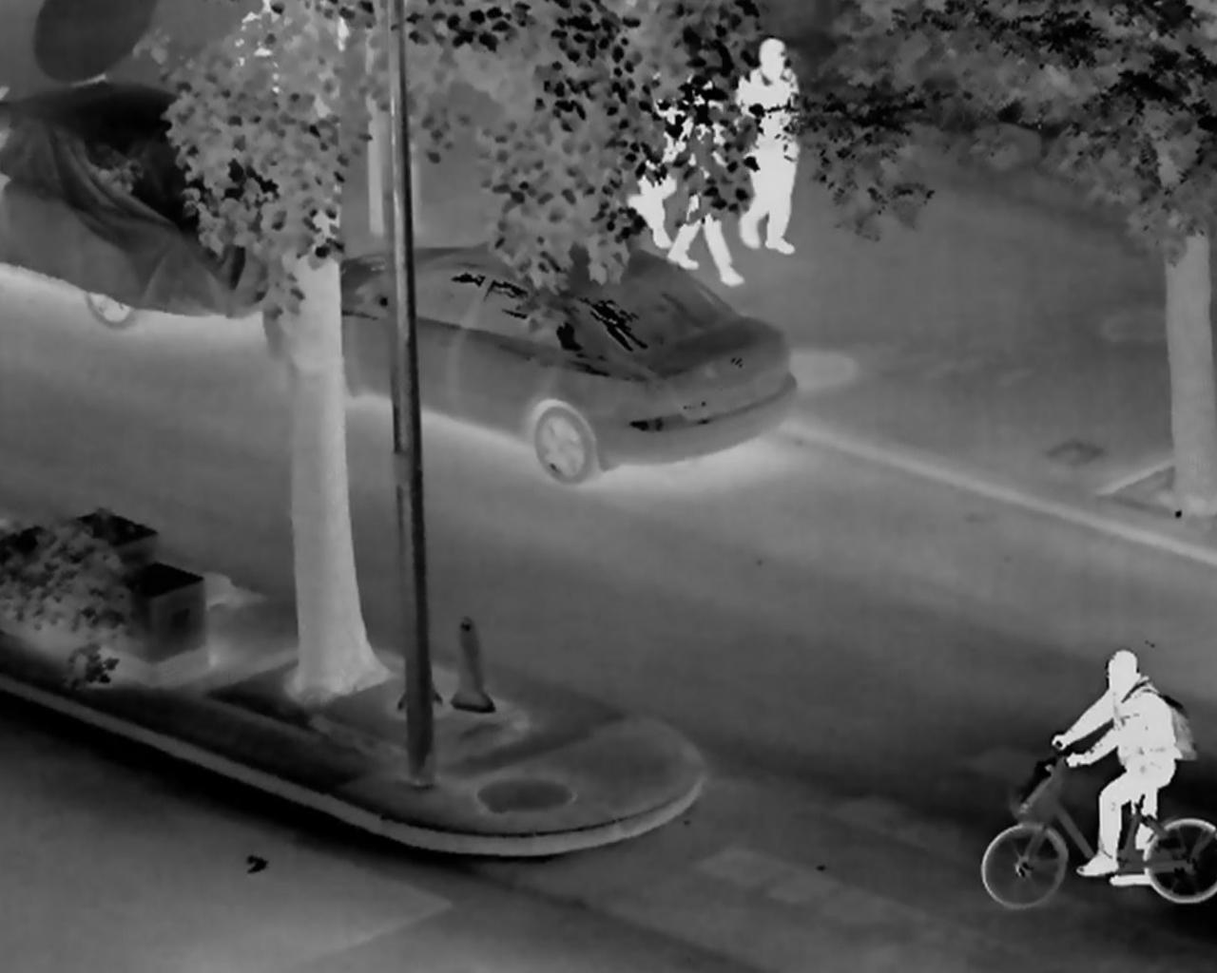person: (1044, 649, 1173, 887), (736, 39, 810, 255), (675, 69, 745, 285), (623, 58, 684, 250)
